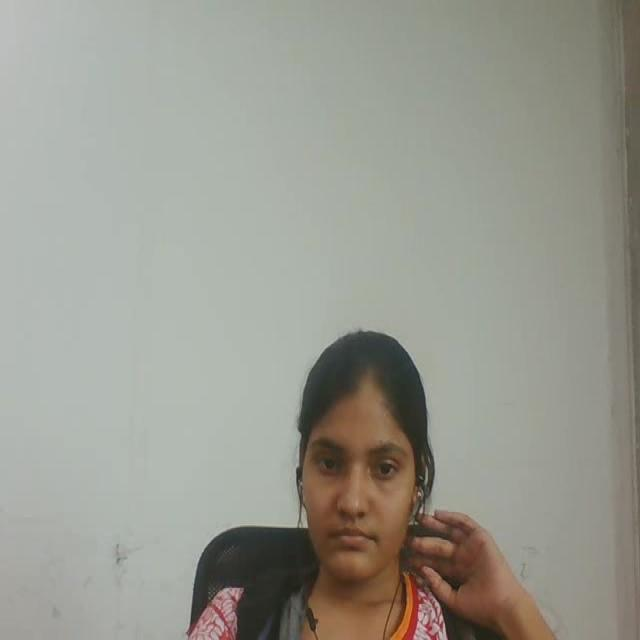Engaged: (279, 296, 462, 622)
